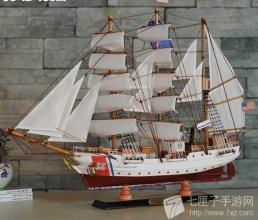fanchuan: (2, 5, 244, 188)
